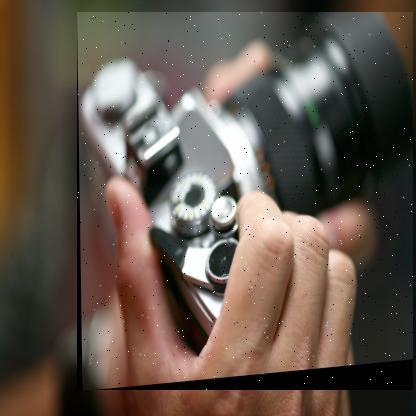Camera: (78, 13, 415, 392)
